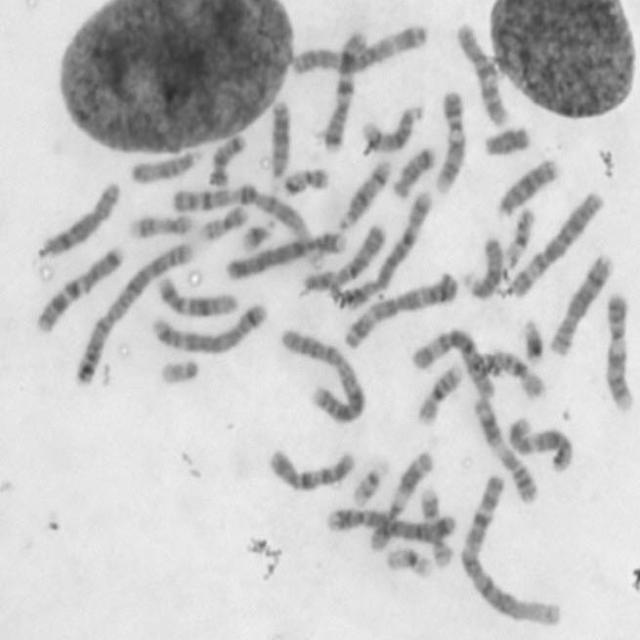A1: (457, 472, 569, 630), (171, 182, 311, 240)
A2: (74, 243, 194, 387), (278, 328, 368, 424)
A3: (342, 272, 457, 352), (289, 23, 427, 78)
B4: (226, 230, 347, 284), (326, 508, 456, 545)
B5: (338, 188, 434, 312), (150, 304, 270, 356)
C10: (454, 21, 509, 127), (268, 448, 358, 494)
C11: (368, 450, 434, 557), (473, 396, 539, 502)
C12: (507, 417, 574, 473), (157, 277, 240, 318)
C6: (508, 191, 604, 301), (412, 328, 496, 400)
C7: (35, 244, 124, 337), (322, 31, 368, 153)
C8: (547, 252, 614, 359), (42, 182, 122, 257)
C9: (605, 292, 636, 416), (435, 91, 468, 197)
D13: (496, 157, 561, 219), (268, 102, 290, 182)
D14: (338, 158, 392, 232), (362, 104, 424, 154)
D15: (129, 148, 205, 186), (461, 236, 503, 300)
E16: (416, 363, 460, 427), (493, 348, 547, 400)
E17: (418, 484, 454, 569), (127, 213, 197, 241)
E18: (392, 147, 434, 200), (207, 133, 247, 188)
F19: (385, 546, 435, 582), (505, 208, 536, 260)
F20: (200, 205, 249, 243), (282, 166, 330, 196)
G21: (240, 218, 276, 254), (521, 316, 545, 361)
G22: (351, 461, 389, 508), (160, 358, 200, 386)
X: (303, 223, 386, 294)
Y: (482, 126, 530, 156)
